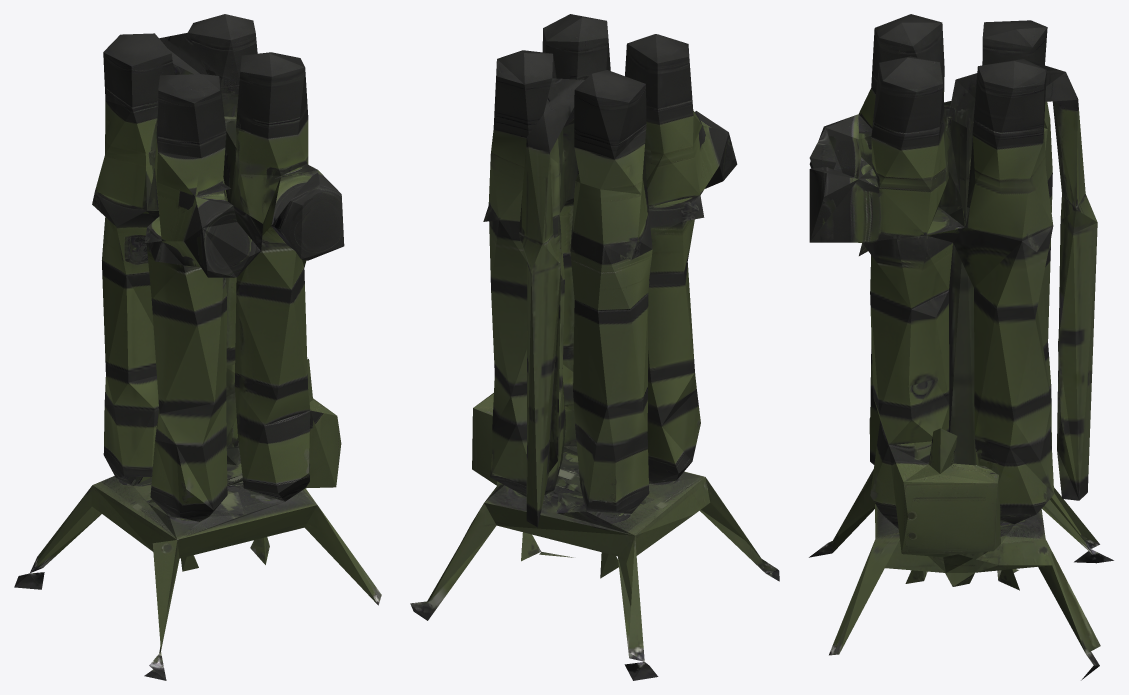
3 renders of one model, left to right at view 1: azimuth 30°, elevation 25°; view 2: azimuth 150°, elevation 25°; view 3: azimuth 270°, elevation 25°, orthographic. The views are drawn at different scales.
Visible parts, largest first — view 1: output_unwrapped; view 2: output_unwrapped; view 3: output_unwrapped.
Part boxes in pixels (x1,y1,x2,y2): output_unwrapped: [14, 14, 381, 680]; output_unwrapped: [410, 14, 779, 680]; output_unwrapped: [809, 14, 1113, 680].
Bounding box in the file's own units: 0.8981 × 1.9 × 0.9088.
Materials: 1 (1 with a texture image).
